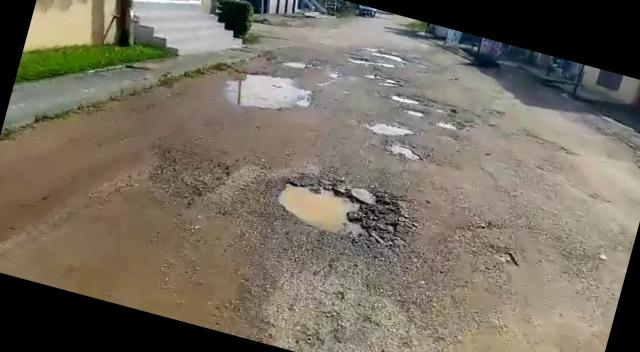pothole: (268, 168, 412, 252), (221, 62, 322, 126), (378, 134, 429, 164), (362, 114, 414, 142), (367, 70, 408, 90), (388, 89, 428, 108), (428, 114, 460, 132), (398, 104, 425, 119), (282, 57, 308, 72)
